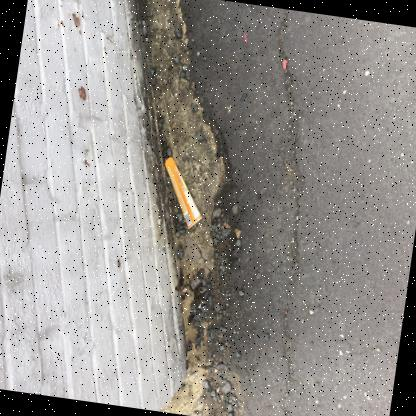Other carton: (164, 157, 202, 229)
